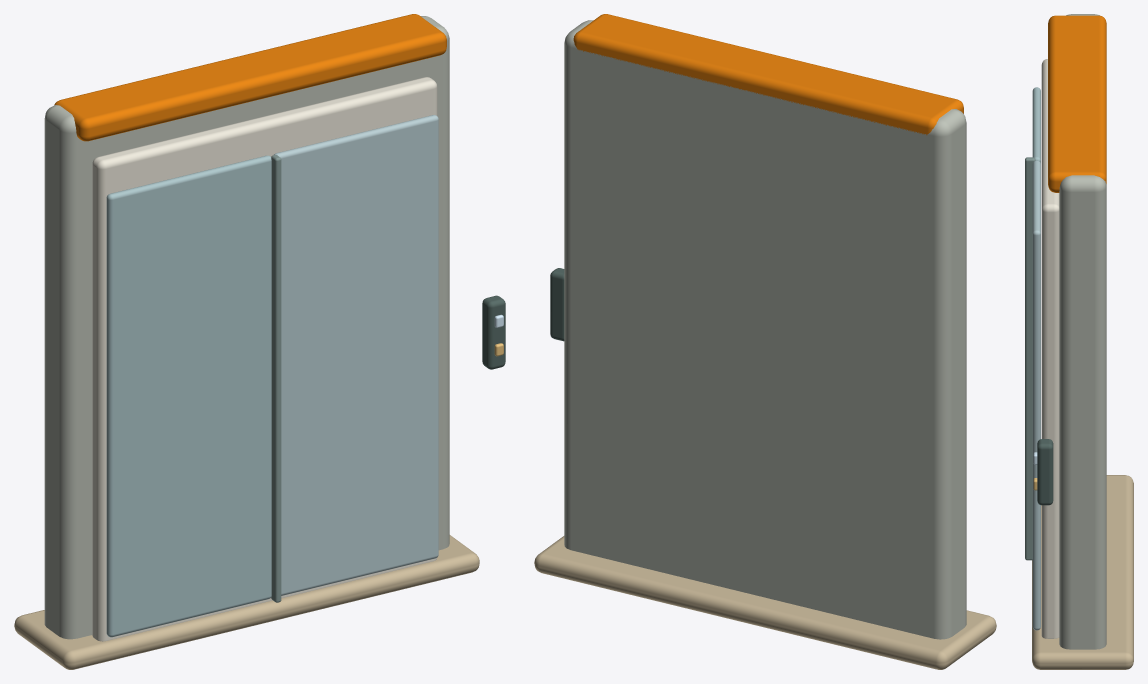
Rendered from elevator-bay.glb.
3 renders of one model, left to right at view 1: azimuth 30°, elevation 25°; view 2: azimuth 150°, elevation 25°; view 3: azimuth 270°, elevation 25°, orthographic. The views are drawn at different scales.
Visible parts, largest first — view 1: elevator-bay; view 2: elevator-bay; view 3: elevator-bay.
Boxes of the visible parts, x1=… form: elevator-bay: x1=14, y1=14, x2=505, y2=669; elevator-bay: x1=534, y1=14, x2=996, y2=669; elevator-bay: x1=1025, y1=14, x2=1133, y2=669.
Bounding box in the file's own units: 2.45 × 2.85 × 0.5775.
